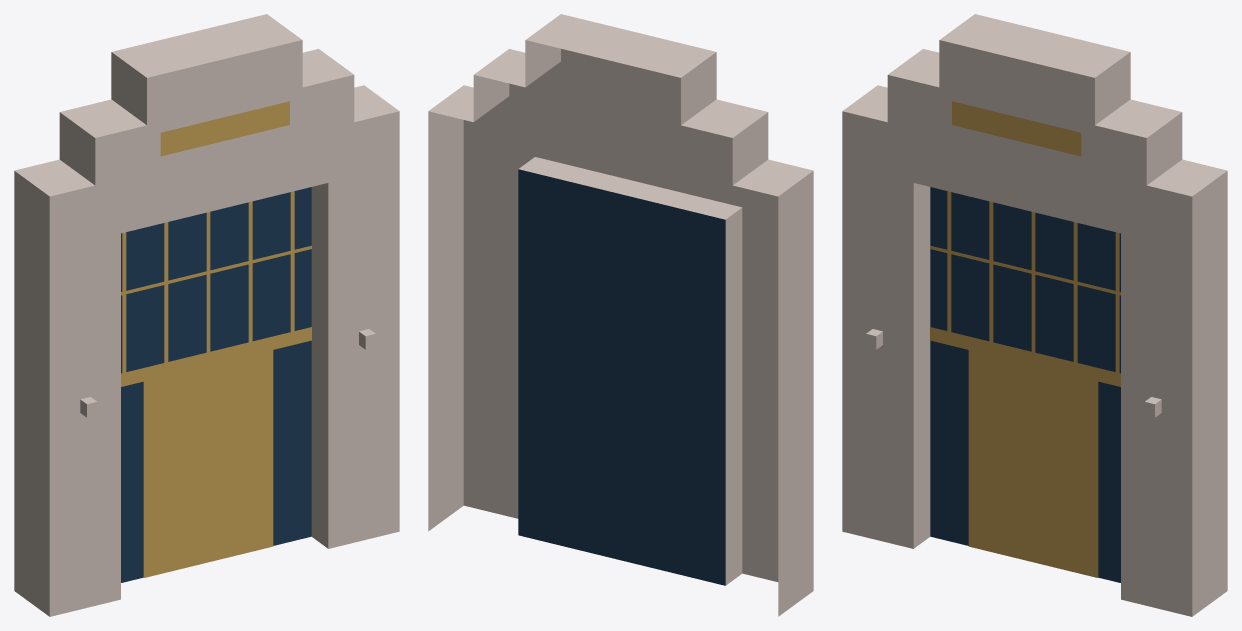
Rendered from entrance.fbx.
The picture shows the model from 3 angles, left to right: view 1: azimuth 30°, elevation 25°; view 2: azimuth 150°, elevation 25°; view 3: azimuth 330°, elevation 25°; orthographic projection.
Visible parts, largest first — view 1: a2011/600/entrance; view 2: a2011/600/entrance; view 3: a2011/600/entrance.
Boxes of the visible parts, left/top/right/bottom form: a2011/600/entrance: left=14, top=14, right=399, bottom=616; a2011/600/entrance: left=428, top=14, right=813, bottom=616; a2011/600/entrance: left=842, top=14, right=1227, bottom=616.
Size of the model in its own units: 5.4 by 7.6 by 1.13.
